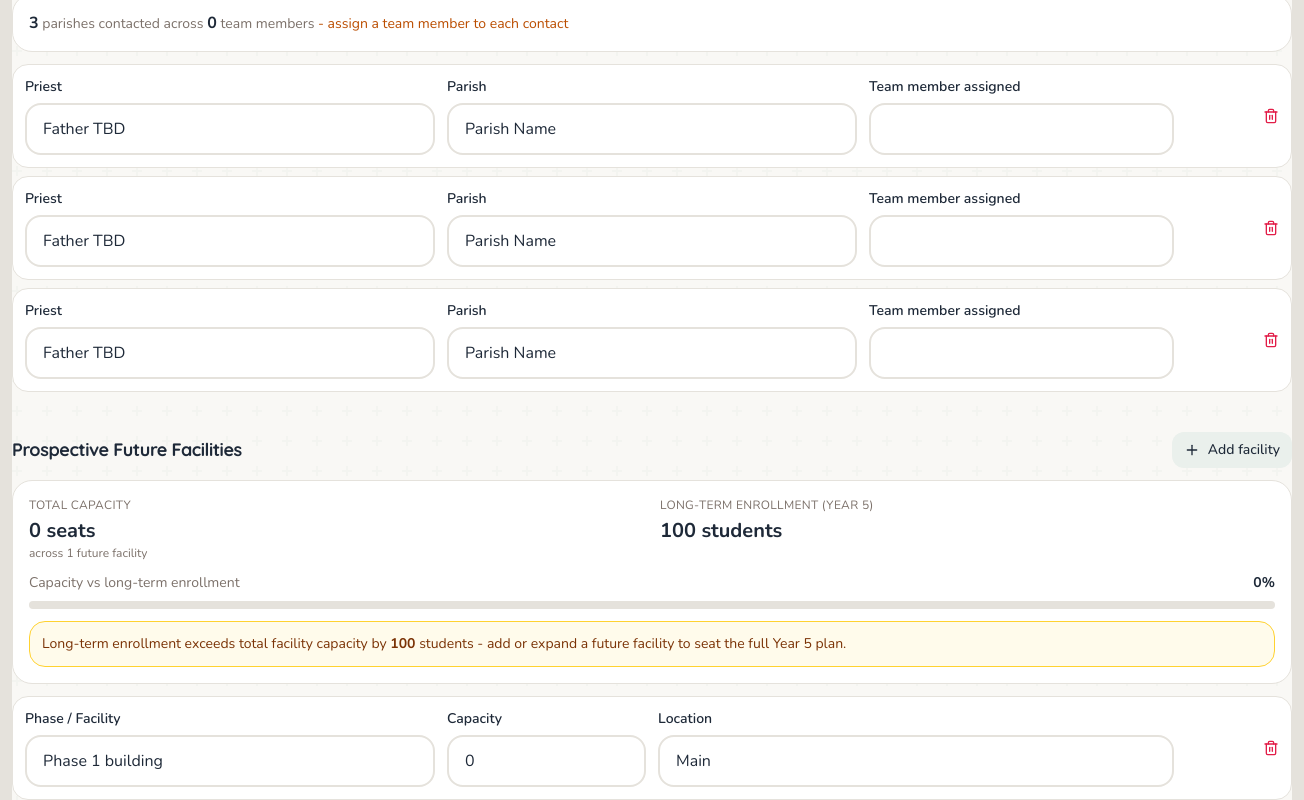
Test case: Chesterton wizard step summaries › recruiting step facilities card updates live as the founder edits capacity
(page scrolled)
Expected: the text with test id "chesterton-facilities-total-capacity" reads "0 seats", x1=29 y1=516 x2=95 y2=544
Replace the text in the number field labelled "Capacity" with "120" at [546, 760], box x1=447 y1=734 x2=646 y2=786
(page scrolled)
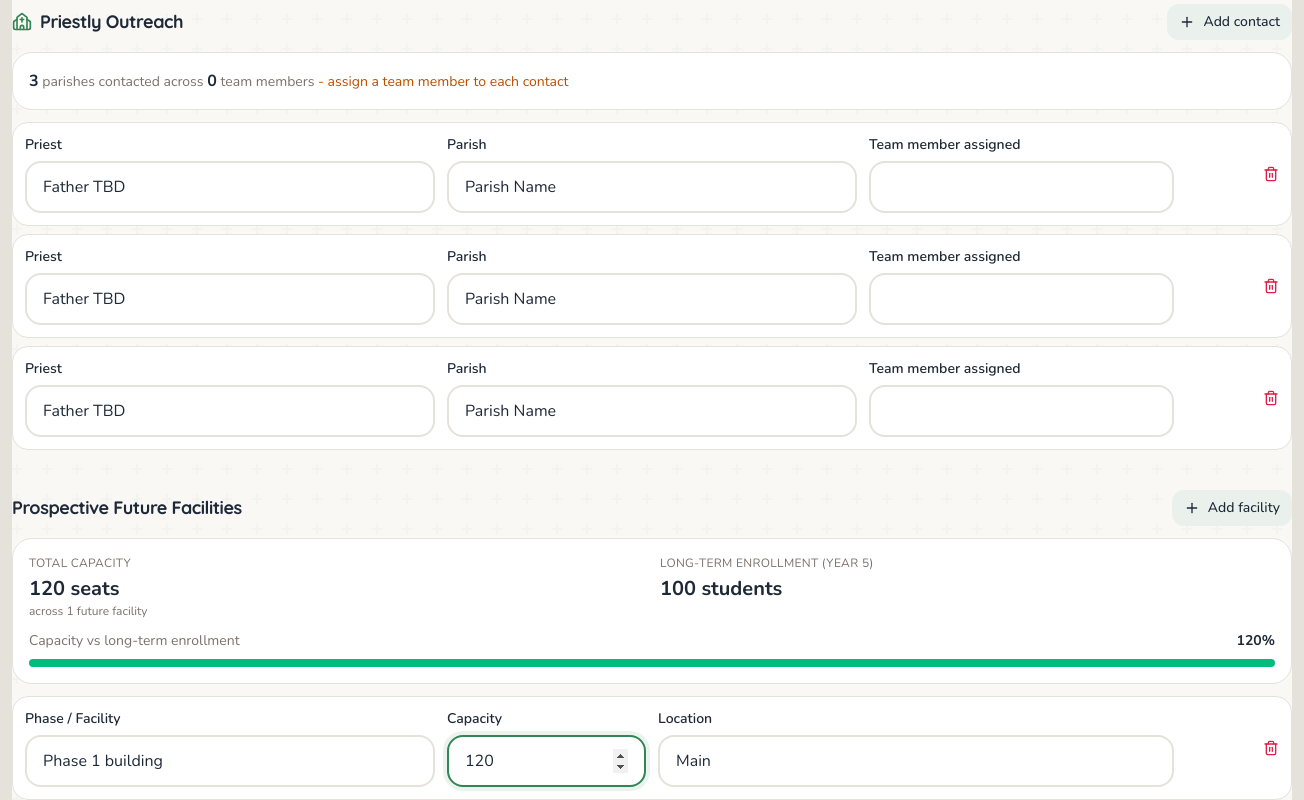
Expected: the text with test id "chesterton-facilities-total-capacity" shows "120", x1=29 y1=574 x2=65 y2=602
Expected: the text with test id "chesterton-facilities-coverage-pct" reads "120%", x1=1237 y1=630 x2=1275 y2=650
Expected: the element with test id "chesterton-facilities-need-more-callout" is gone
